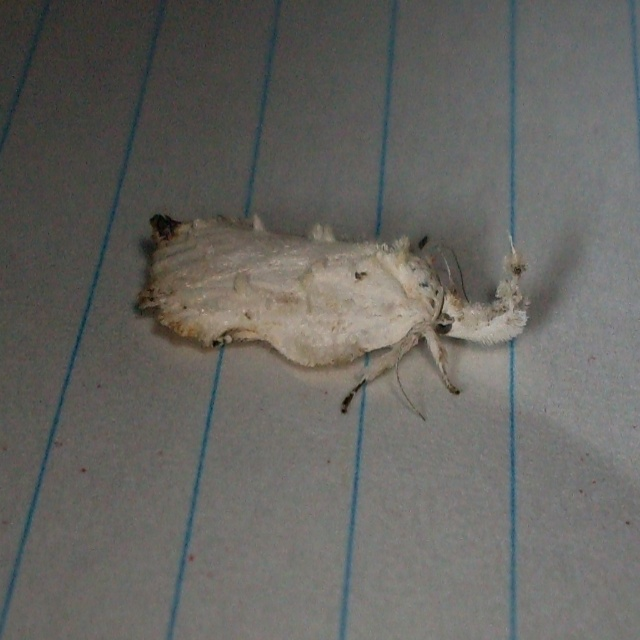Moths and butterflies: (135, 213, 530, 421)
